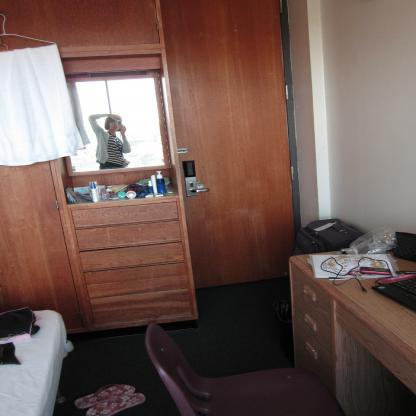door: (155, 0, 304, 291)
hinged: (284, 84, 290, 100), (278, 0, 284, 14), (290, 166, 295, 180)
lever: (190, 188, 211, 193)
